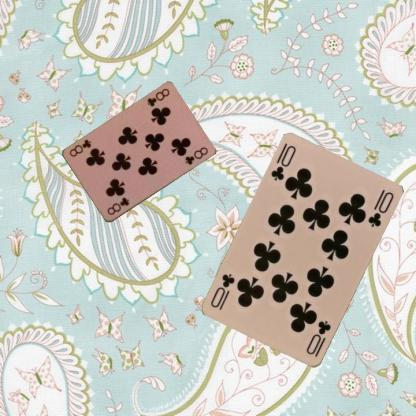10c: (268, 140, 298, 182), (303, 318, 333, 356)
8c: (144, 85, 170, 108), (105, 194, 131, 216)
